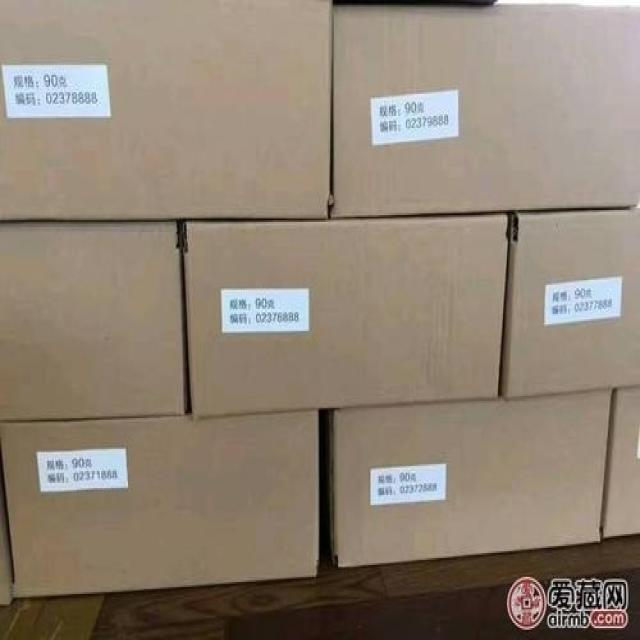box: (0, 2, 333, 222), (182, 213, 512, 422), (330, 2, 640, 218), (1, 411, 320, 596), (319, 389, 614, 568), (0, 220, 187, 423), (502, 208, 639, 396), (605, 387, 639, 541)
